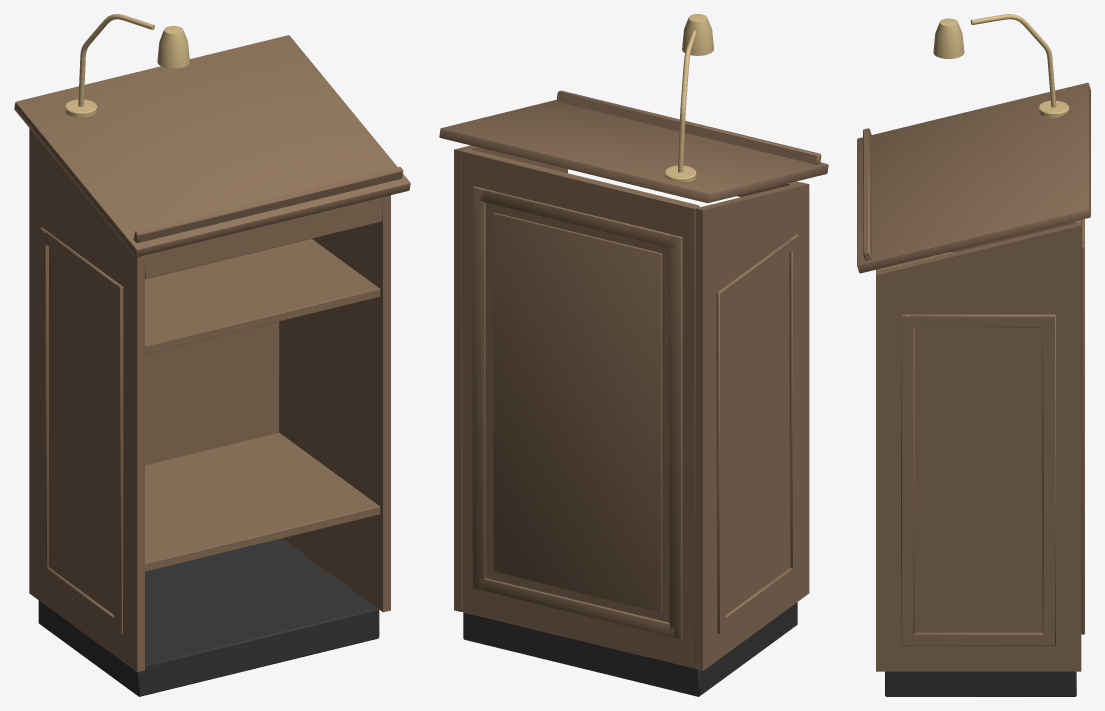
File: Kit_Lectern.fbx
The picture shows the model from 3 angles, left to right: view 1: azimuth 30°, elevation 25°; view 2: azimuth 150°, elevation 25°; view 3: azimuth 270°, elevation 25°; orthographic projection. The views are drawn at different scales.
Parts seen in each view (by area): view 1: Kit_Lectern_LOD0; view 2: Kit_Lectern_LOD0; view 3: Kit_Lectern_LOD0.
Boxes of the visible parts, x1,y1,x2,y2 form: Kit_Lectern_LOD0: (14,14,410,696); Kit_Lectern_LOD0: (439,14,828,696); Kit_Lectern_LOD0: (857,14,1090,696).
Size of what is drawn, in the model's own units: 0.66 by 1.44 by 0.5121.
